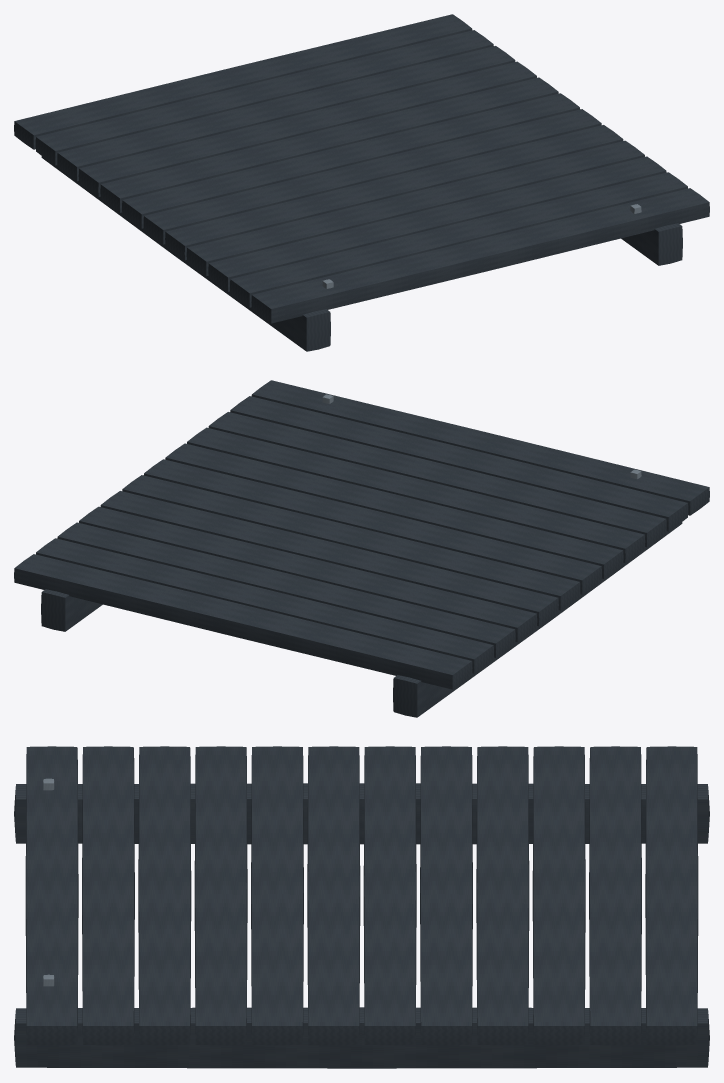
3 renders of one model, top to bottom at view 1: azimuth 30°, elevation 25°; view 2: azimuth 150°, elevation 25°; view 3: azimuth 270°, elevation 25°, orthographic. The views are drawn at different scales.
Parts seen in each view (by area): view 1: iron.11, iron.4, iron.1, iron.8, iron.9, iron.6, iron.3, iron.7, iron.0, iron.2, iron.5, iron.10 (+2 smaller); view 2: iron.0, iron.7, iron.2, iron.3, iron.10, iron.5, iron.8, iron.4, iron.9, iron.6, iron.1, iron.11 (+2 smaller); view 3: iron.13, iron.4, iron.7, iron.1, iron.10, iron.0, iron.3, iron.5, iron.6, iron.8, iron.2, iron.9 (+2 smaller).
Boxes of the visible parts, left/top/right/bottom form: iron.11: left=251, top=188, right=709, bottom=323; iron.4: left=100, top=77, right=558, bottom=212; iron.1: left=35, top=30, right=493, bottom=165; iron.8: left=186, top=140, right=644, bottom=276; iron.9: left=208, top=156, right=666, bottom=291; iron.6: left=143, top=109, right=601, bottom=244; iron.3: left=78, top=61, right=536, bottom=197; iron.7: left=165, top=125, right=623, bottom=260; iron.0: left=14, top=14, right=472, bottom=149; iron.2: left=57, top=46, right=515, bottom=181; iron.5: left=122, top=93, right=580, bottom=228; iron.10: left=230, top=172, right=687, bottom=307; iron.0: left=14, top=554, right=472, bottom=689; iron.7: left=165, top=443, right=623, bottom=578; iron.2: left=57, top=522, right=515, bottom=657; iron.3: left=79, top=506, right=537, bottom=642; iron.10: left=230, top=396, right=688, bottom=531; iron.5: left=122, top=475, right=580, bottom=610; iron.8: left=187, top=427, right=645, bottom=563; iron.4: left=100, top=491, right=558, bottom=626; iron.9: left=208, top=412, right=666, bottom=547; iron.6: left=143, top=459, right=601, bottom=594; iron.1: left=36, top=538, right=493, bottom=673; iron.11: left=251, top=380, right=709, bottom=515; iron.13: left=14, top=1007, right=709, bottom=1068; iron.4: left=420, top=746, right=472, bottom=1045; iron.7: left=251, top=746, right=303, bottom=1045; iron.1: left=589, top=746, right=641, bottom=1045; iron.10: left=82, top=746, right=134, bottom=1045; iron.0: left=645, top=746, right=698, bottom=1045; iron.3: left=476, top=746, right=529, bottom=1045; iron.5: left=363, top=746, right=416, bottom=1045; iron.6: left=307, top=746, right=360, bottom=1045; iron.8: left=194, top=746, right=247, bottom=1045; iron.2: left=532, top=746, right=585, bottom=1045; iron.9: left=138, top=746, right=191, bottom=1045.
Size of the model in its own units: 2 by 0.2375 by 2.1.
2 materials, 2 textured.
